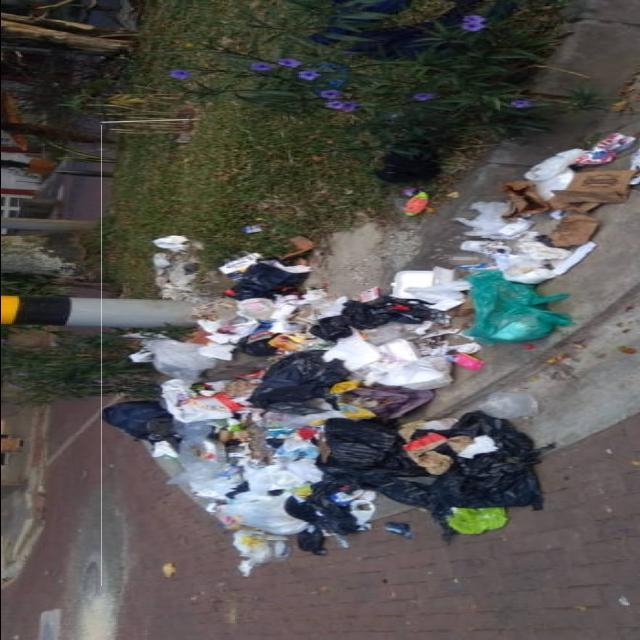Trashbag: (233, 346, 354, 418), (437, 413, 533, 478), (425, 461, 542, 513), (280, 481, 357, 552), (316, 290, 413, 342), (226, 246, 307, 306), (318, 418, 402, 475), (95, 391, 176, 450), (365, 463, 435, 519)
